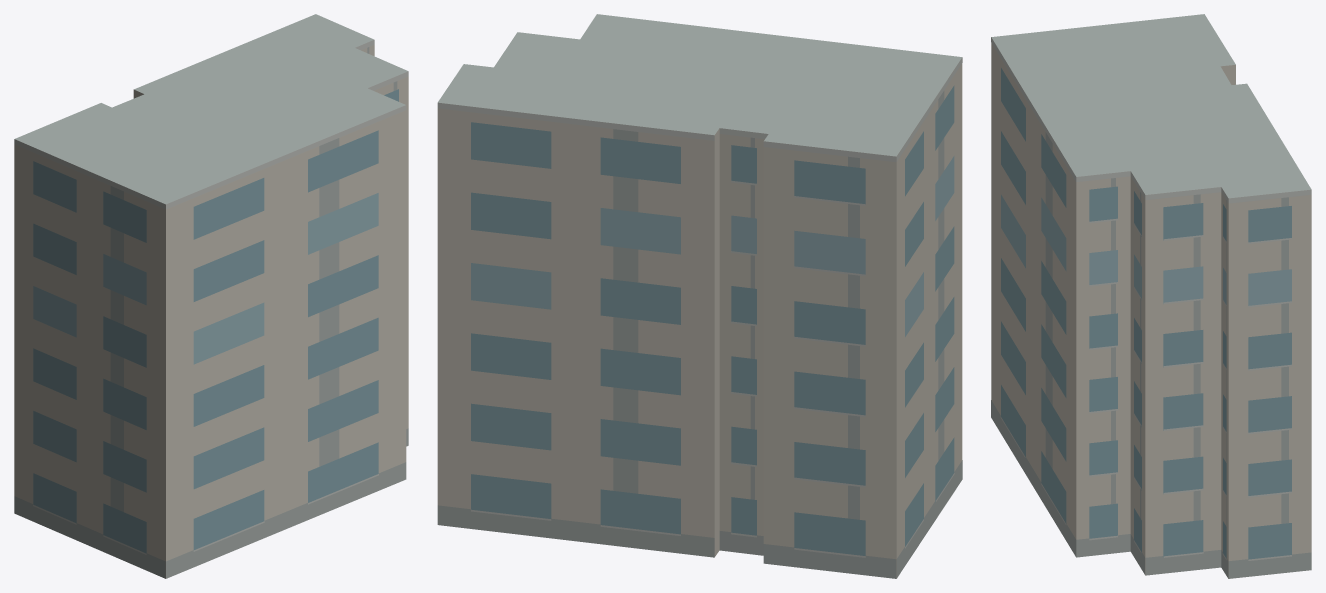
File: survey-upis-32810234.glb
The picture shows the model from 3 angles, left to right: view 1: azimuth 30°, elevation 25°; view 2: azimuth 150°, elevation 25°; view 3: azimuth 270°, elevation 25°; orthographic projection. The views are drawn at different scales.
Visible parts, largest first — view 1: survey-upis-32810234.tmp; view 2: survey-upis-32810234.tmp; view 3: survey-upis-32810234.tmp.
Boxes of the visible parts, x1=… form: survey-upis-32810234.tmp: x1=14, y1=14, x2=408, y2=578; survey-upis-32810234.tmp: x1=437, y1=14, x2=962, y2=578; survey-upis-32810234.tmp: x1=991, y1=14, x2=1311, y2=578.
Size of the model in its own units: 18.62 by 17.9 by 13.67.
